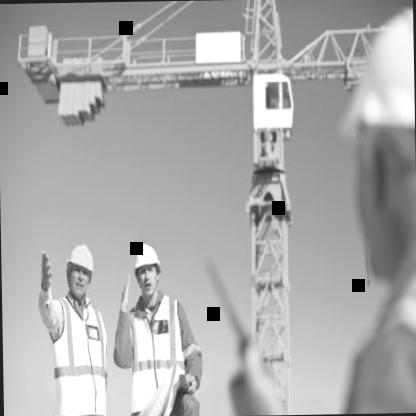helmet: (338, 4, 416, 296), (63, 236, 97, 302), (131, 236, 162, 298)
